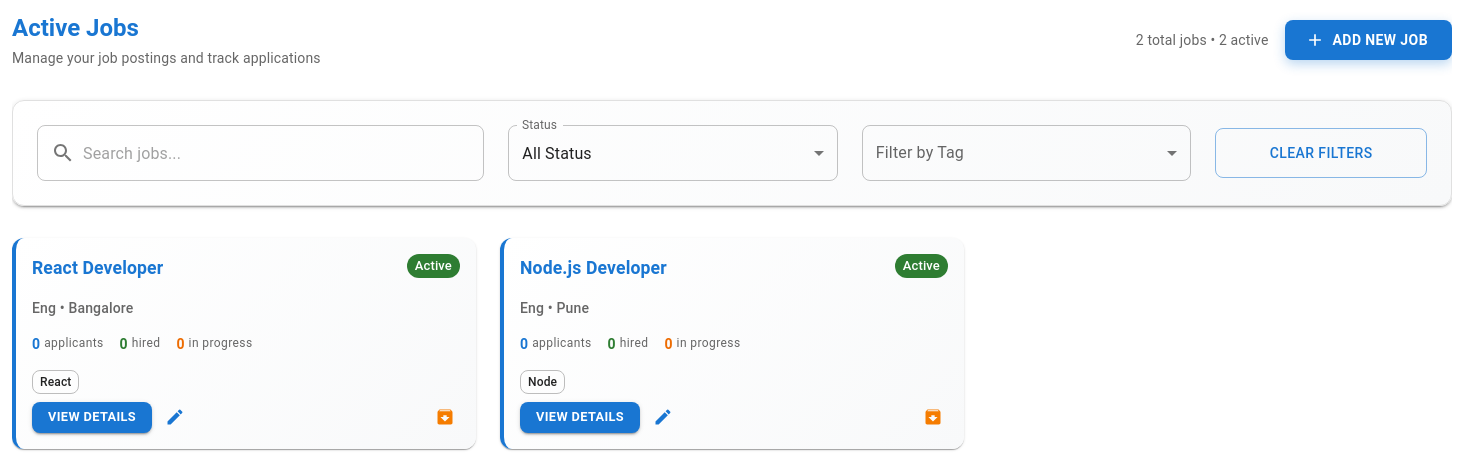
Test case: JobsBoard › filters jobs based on search term
The width and height of the screenshot is (1464, 468).
Expected: the text "React Developer" is shown, [32,254,163,282]
Type "Node.js" into the field with placeholder "Search jobs..." at (284, 153), box [83,125,484,181]
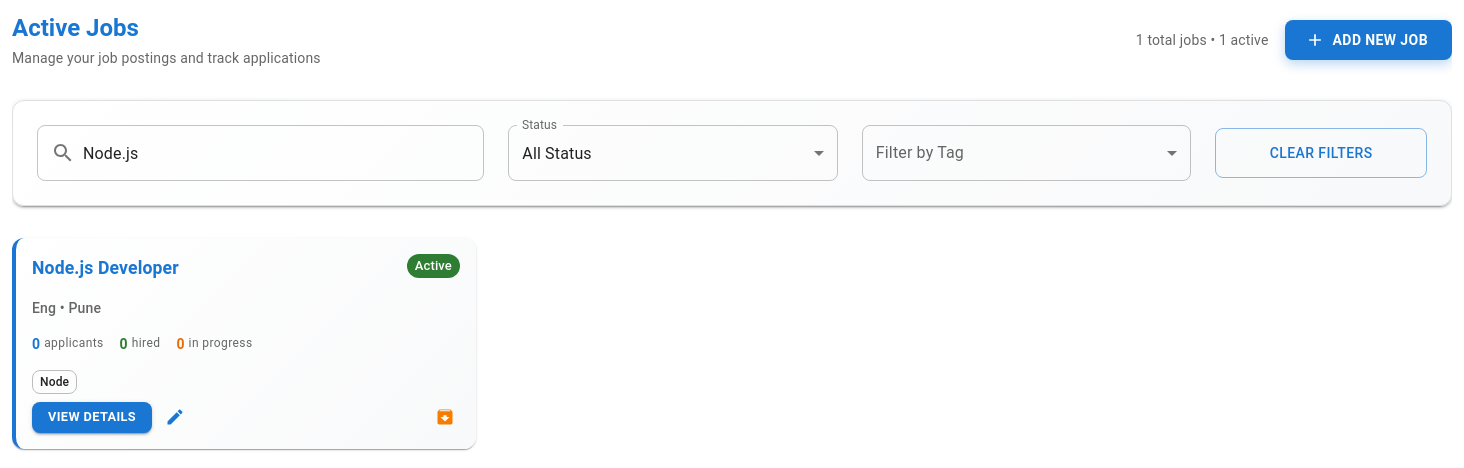
Expected: the text "Node.js Developer" is shown, [32,254,179,282]
Now the button "React Developer" is gone
